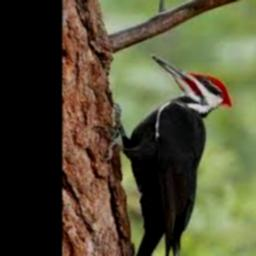Woodpecker: (98, 54, 232, 256)
